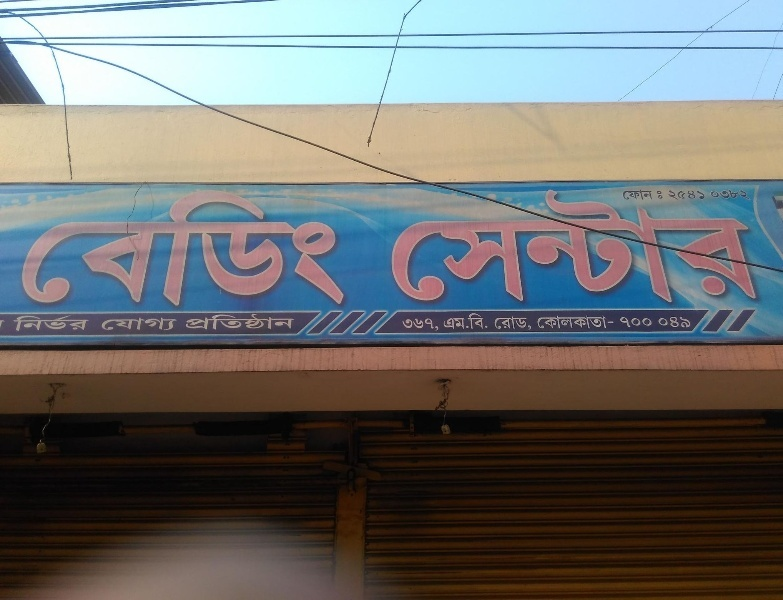text: (17, 189, 32, 309), (33, 189, 48, 309), (49, 189, 64, 309), (65, 189, 80, 309), (81, 189, 96, 309), (97, 189, 112, 309), (113, 189, 128, 309), (129, 189, 144, 309), (145, 189, 160, 309), (161, 189, 176, 309), (177, 189, 192, 309), (193, 189, 208, 309), (209, 189, 224, 309), (225, 189, 240, 309), (241, 189, 256, 309), (257, 189, 272, 309), (273, 189, 288, 309), (289, 189, 304, 309), (305, 189, 320, 309), (321, 189, 336, 309), (417, 189, 432, 305), (433, 189, 448, 305), (449, 189, 464, 305), (465, 189, 480, 305), (481, 189, 496, 305), (497, 189, 512, 305), (513, 189, 528, 305), (529, 189, 544, 305), (545, 189, 560, 305), (561, 189, 576, 305), (577, 189, 592, 305), (593, 189, 608, 305), (609, 189, 624, 305), (625, 189, 640, 305), (641, 189, 656, 305), (657, 189, 672, 305), (673, 189, 688, 305), (689, 189, 704, 305), (705, 189, 720, 305), (721, 189, 736, 305), (737, 189, 752, 305), (337, 189, 350, 309), (403, 189, 416, 305), (753, 189, 765, 305), (193, 313, 208, 331), (209, 313, 224, 331), (225, 313, 240, 331), (241, 313, 256, 331), (257, 313, 272, 331), (273, 313, 288, 331), (449, 313, 464, 331), (465, 313, 480, 331), (17, 316, 32, 333), (33, 316, 48, 333), (49, 316, 64, 333), (65, 316, 80, 333), (14, 189, 16, 309), (497, 316, 512, 331), (513, 316, 528, 331), (113, 316, 128, 331), (129, 316, 144, 331), (145, 316, 160, 331), (161, 316, 176, 331), (545, 315, 560, 330), (561, 315, 576, 330), (577, 315, 592, 330), (593, 315, 608, 330), (417, 317, 432, 331), (81, 316, 93, 333), (402, 317, 416, 331), (625, 316, 640, 328), (641, 316, 656, 328), (657, 316, 672, 328), (673, 316, 688, 328), (721, 190, 736, 202), (737, 190, 752, 202), (673, 191, 688, 202), (689, 191, 704, 202), (481, 313, 490, 331), (625, 190, 640, 200), (103, 316, 112, 331), (641, 190, 654, 200), (657, 191, 672, 199), (433, 317, 441, 331), (289, 313, 295, 331), (537, 315, 544, 330), (712, 190, 720, 202), (187, 313, 192, 331), (443, 313, 448, 331), (609, 315, 615, 330), (529, 316, 533, 331), (13, 316, 16, 333), (177, 316, 180, 331), (621, 316, 624, 328), (689, 316, 692, 328), (494, 316, 496, 331), (670, 191, 672, 202), (705, 191, 706, 202), (623, 190, 624, 200)
